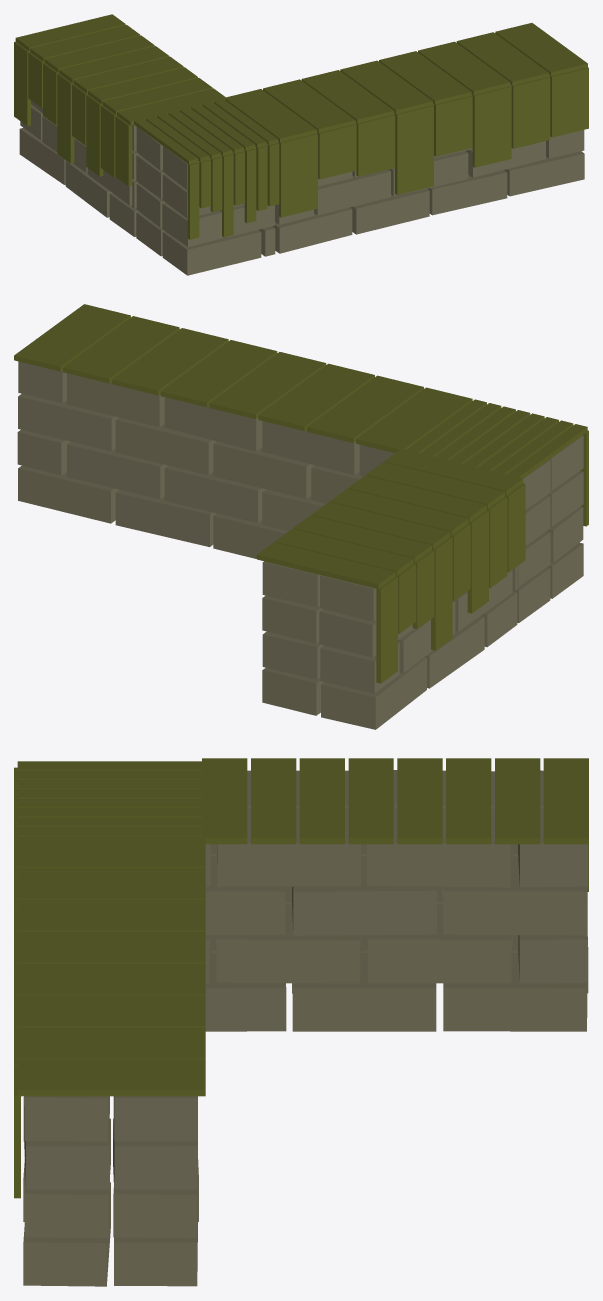
The model's file is SM_PretilEsquinaPaso_v4_Red_e0_Sano_LOD0.fbx.
3 renders of one model, top to bottom at view 1: azimuth 30°, elevation 25°; view 2: azimuth 150°, elevation 25°; view 3: azimuth 270°, elevation 25°, orthographic. The views are drawn at different scales.
Parts seen in each view (by area): view 1: SM_pretil_azotea_v56_LOD0; view 2: SM_pretil_azotea_v56_LOD0; view 3: SM_pretil_azotea_v56_LOD0.
Boxes of the visible parts, left/top/right/bottom form: SM_pretil_azotea_v56_LOD0: left=14, top=14, right=588, bottom=275; SM_pretil_azotea_v56_LOD0: left=14, top=304, right=588, bottom=729; SM_pretil_azotea_v56_LOD0: left=14, top=758, right=588, bottom=1286.
Size of the model in its own units: 4.44 by 1.23 by 3.24.
